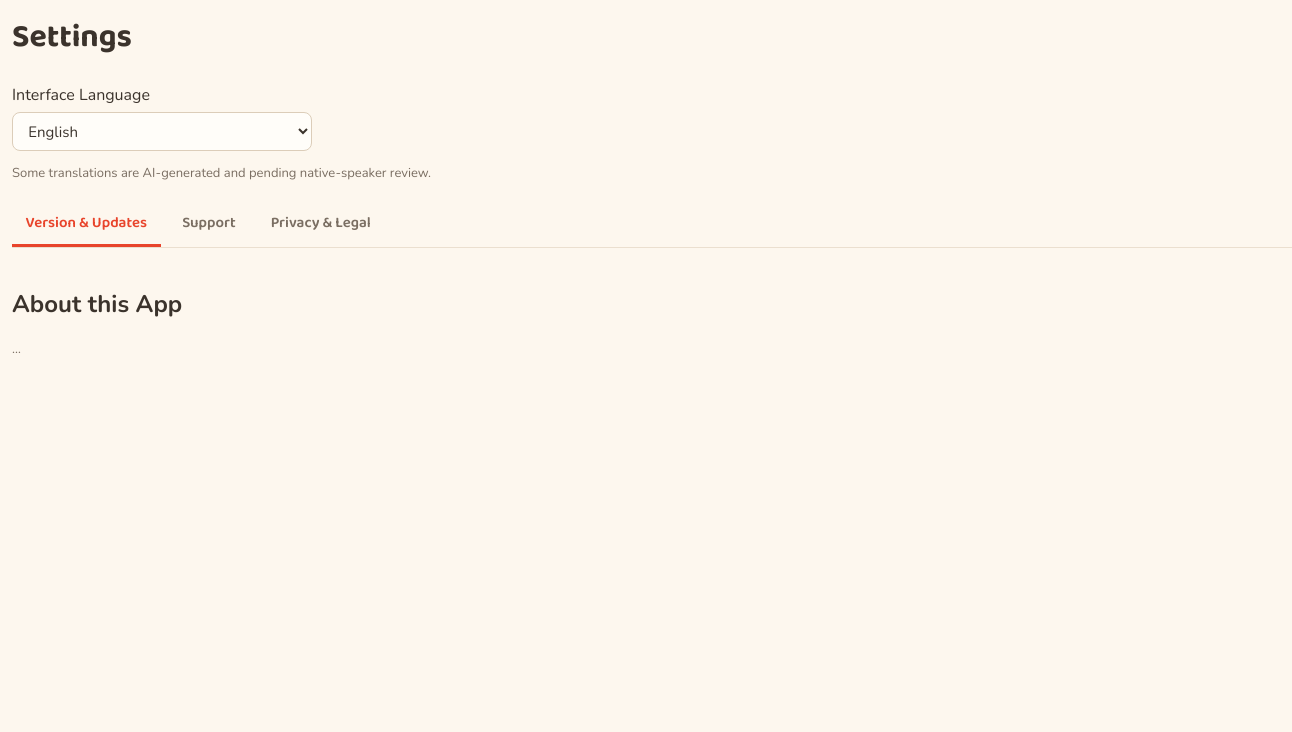
Test case: SettingsScreen — Support tab › displays the support email and copies it to the clipboard on request
Click the tab "Support".
click(209, 225)  # box [169,202,249,247]
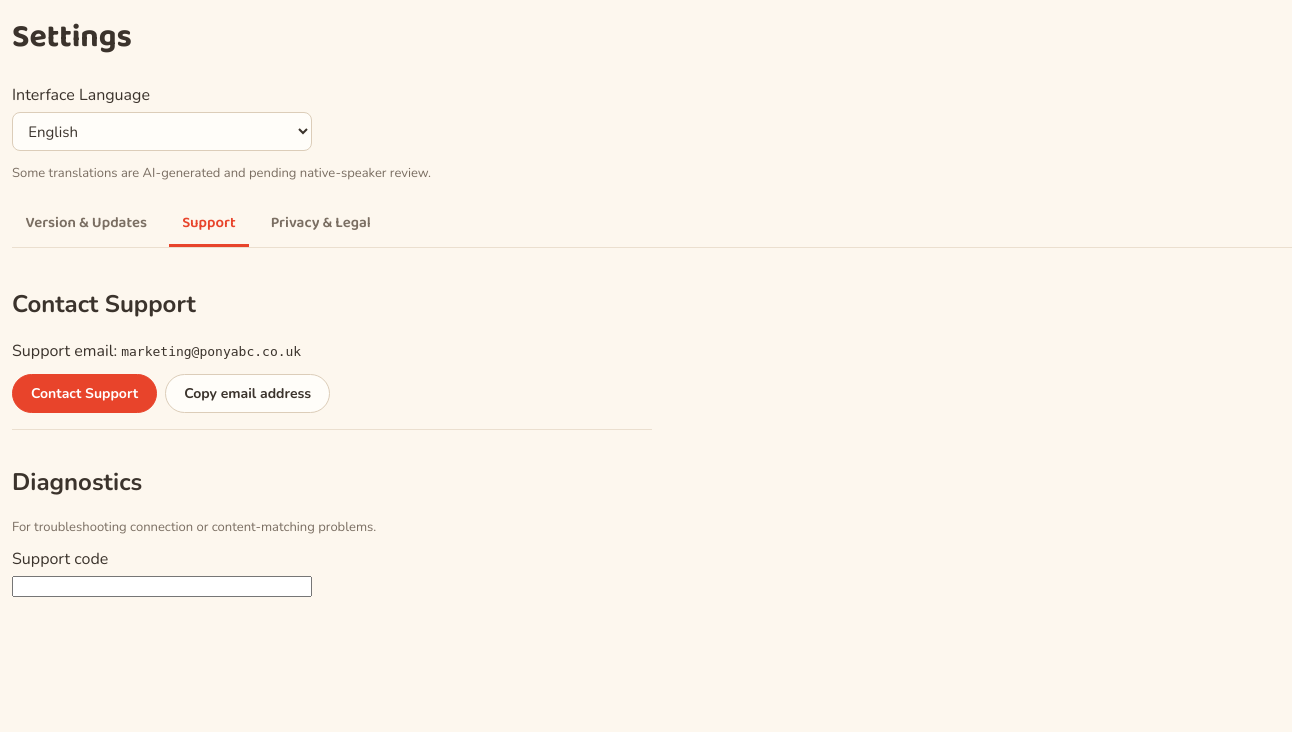
Result: the text "marketing@ponyabc.co.uk" is shown at [121,344,301,359]
Click the button "Copy email address".
click(248, 394)  # box [165,374,330,413]
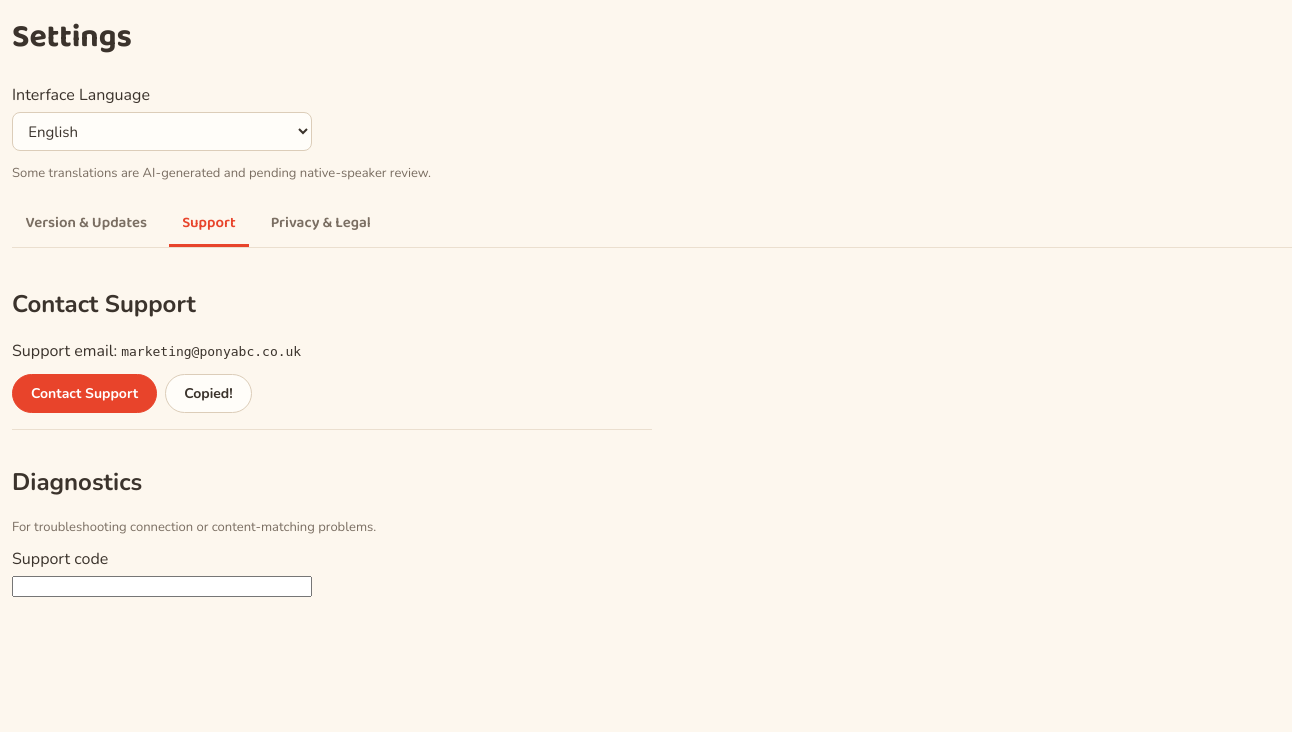
Result: the button "Copied!" is shown at [165,374,252,413]
